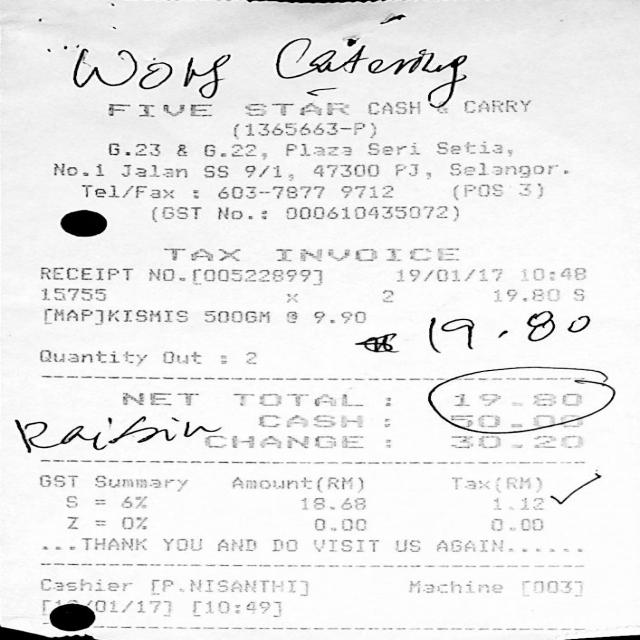text: (274, 246, 463, 260), (206, 433, 361, 449), (451, 432, 585, 450), (229, 476, 367, 493), (160, 577, 297, 594), (451, 392, 580, 410), (450, 412, 582, 429), (225, 391, 362, 407), (40, 308, 186, 322), (54, 597, 161, 616), (286, 206, 448, 218), (249, 412, 365, 428), (34, 348, 145, 364), (192, 267, 310, 282), (216, 182, 322, 198), (243, 123, 364, 137), (94, 473, 188, 491), (444, 475, 542, 492), (240, 102, 350, 116), (103, 102, 212, 116), (407, 579, 502, 595), (34, 576, 128, 592), (444, 162, 558, 175), (79, 182, 170, 198), (112, 389, 196, 406), (395, 268, 504, 281), (40, 266, 131, 280), (39, 285, 108, 302), (204, 598, 272, 615), (516, 264, 587, 280), (160, 246, 239, 260), (202, 308, 271, 324), (308, 537, 377, 553), (435, 140, 505, 155), (76, 535, 146, 550), (436, 537, 505, 552), (492, 287, 560, 302), (298, 498, 370, 512), (462, 99, 533, 112), (283, 143, 352, 156), (120, 164, 184, 178), (311, 164, 382, 176), (49, 160, 102, 176), (491, 495, 544, 511), (102, 142, 158, 157), (484, 517, 543, 531), (366, 100, 421, 115), (337, 184, 394, 198), (200, 142, 255, 156), (524, 580, 571, 596), (213, 535, 256, 552), (364, 142, 418, 155), (308, 519, 366, 531), (160, 536, 203, 552), (310, 310, 366, 322), (161, 350, 202, 364), (33, 473, 77, 486), (243, 164, 280, 179), (460, 182, 500, 195), (158, 207, 200, 219), (115, 514, 146, 530), (269, 537, 296, 553), (393, 538, 420, 554), (147, 268, 182, 280), (201, 164, 229, 178), (393, 162, 419, 177), (120, 495, 148, 508), (215, 206, 240, 220), (56, 494, 79, 508), (59, 514, 79, 530), (569, 287, 586, 304), (378, 288, 396, 303), (515, 180, 530, 197), (281, 310, 298, 324), (175, 143, 189, 158), (281, 290, 295, 304), (433, 100, 447, 113), (244, 351, 256, 364), (192, 189, 196, 198)
